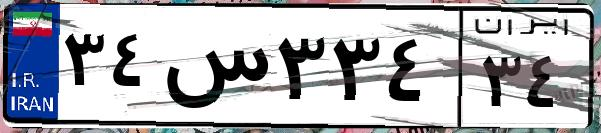3: (270, 28, 330, 110), (330, 28, 385, 110), (57, 26, 110, 100), (475, 38, 525, 113)
4: (385, 28, 445, 110), (525, 38, 570, 115), (110, 28, 158, 98)
س: (158, 20, 270, 120)
